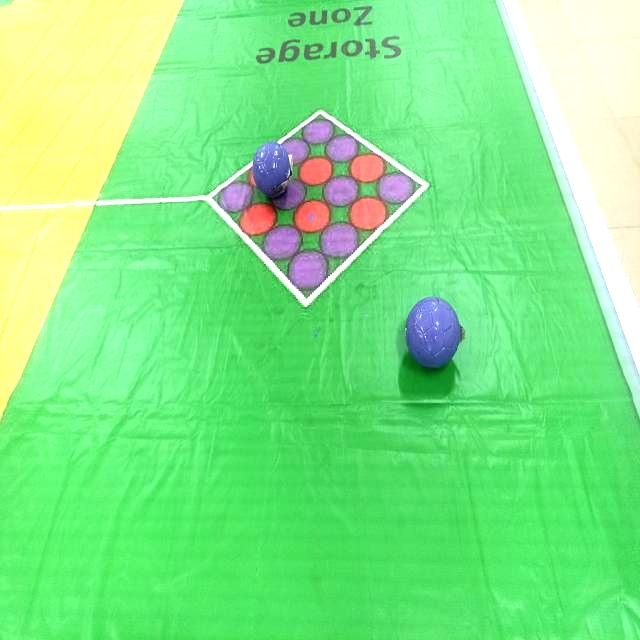purple_ball: (403, 293, 467, 375), (250, 140, 291, 196)
